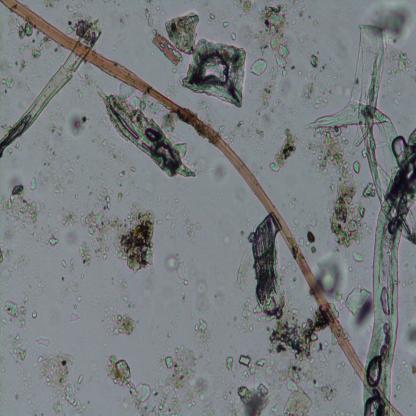Background material: (310, 21, 408, 208), (237, 215, 287, 330), (78, 207, 156, 272), (182, 35, 247, 110), (154, 345, 207, 415), (270, 301, 327, 365), (33, 350, 89, 414), (270, 364, 335, 414), (328, 175, 364, 264), (104, 352, 155, 414), (152, 10, 201, 72), (223, 352, 271, 415), (254, 3, 292, 76), (3, 176, 42, 230), (368, 1, 414, 43), (344, 282, 378, 331), (304, 51, 330, 111), (266, 130, 296, 175), (250, 86, 278, 134), (164, 210, 203, 244), (98, 304, 134, 340), (165, 252, 192, 297), (3, 296, 32, 331), (294, 212, 317, 255), (56, 206, 78, 246), (384, 46, 412, 77), (39, 163, 66, 195), (192, 316, 214, 353), (18, 37, 50, 61), (6, 334, 29, 367), (60, 262, 80, 299), (67, 110, 89, 137), (218, 119, 245, 141), (0, 58, 17, 92), (12, 17, 36, 41), (247, 56, 272, 79), (91, 184, 112, 211), (67, 14, 94, 34), (404, 316, 416, 352), (36, 232, 57, 249), (35, 334, 51, 349), (142, 9, 154, 28), (0, 247, 12, 266), (68, 310, 81, 324), (18, 59, 28, 73), (221, 20, 231, 30)
Cellulose filter fibre: (361, 131, 416, 415), (0, 25, 102, 150), (101, 90, 194, 178)
Microfibre: (0, 0, 402, 414)
